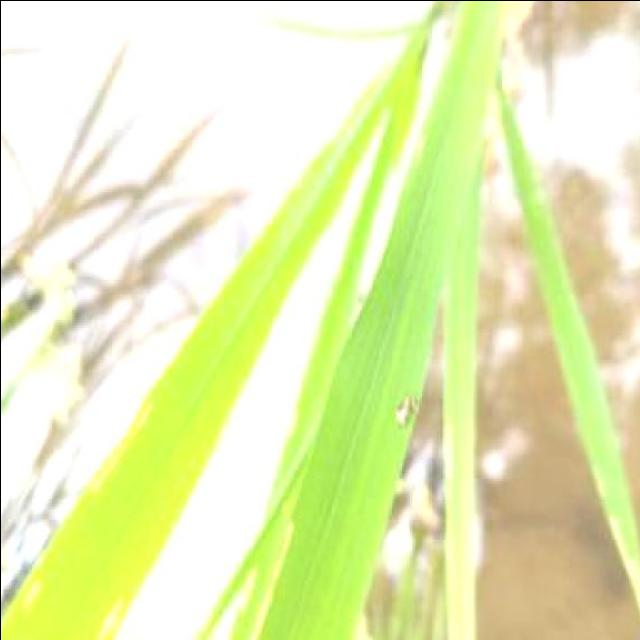ricebug: (394, 397, 416, 424)
